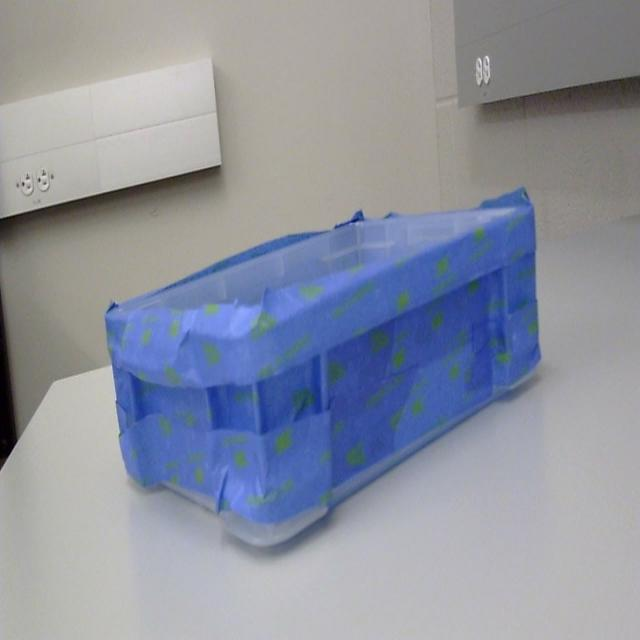bucket: (102, 181, 544, 553)
